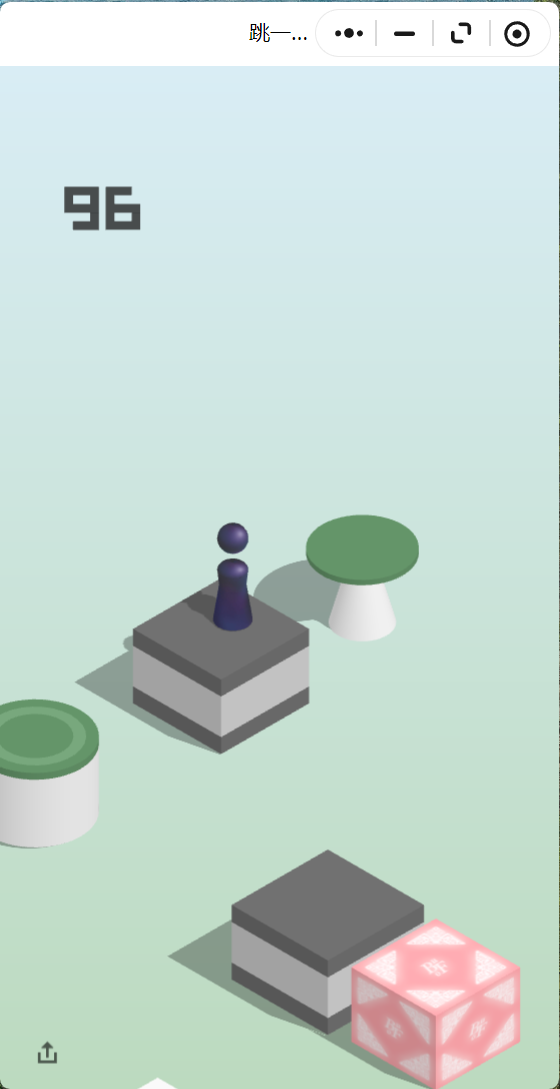piece: (218, 523, 248, 626)
target: (306, 514, 419, 580)
